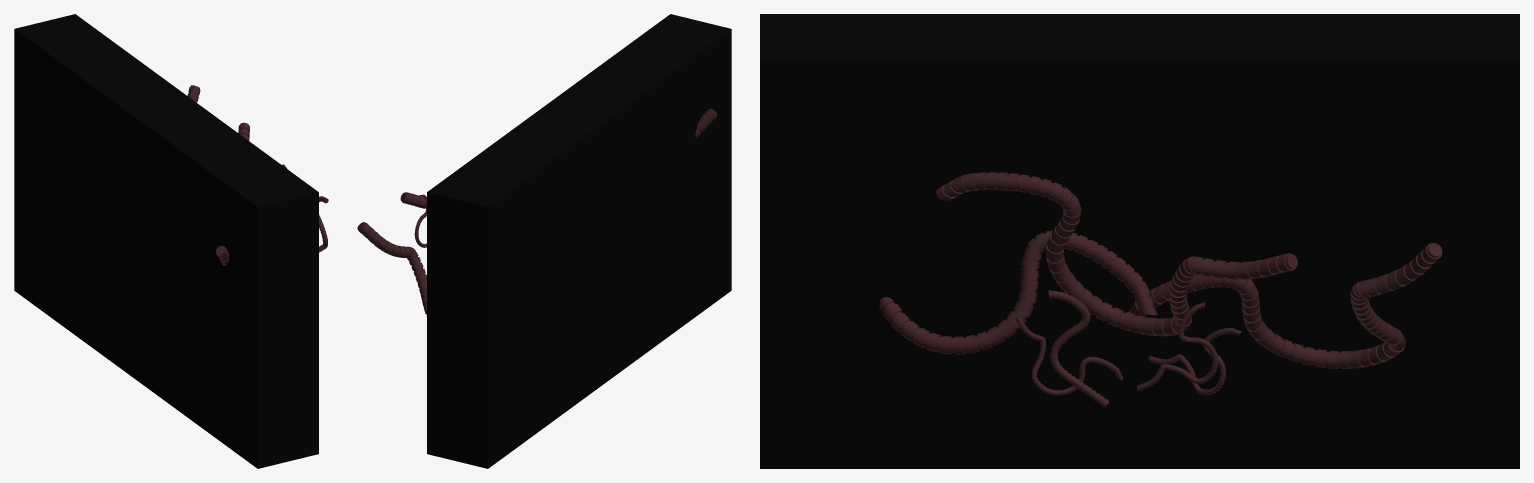
Rendered from Menu.glb.
3 views of the same model, side by side, from view 1: azimuth 30°, elevation 25°; view 2: azimuth 150°, elevation 25°; view 3: azimuth 270°, elevation 25° (orthographic). The views are drawn at different scales.
Parts seen in each view (by area): view 1: Cube; view 2: Cube, Cylinder.005; view 3: Cube, Cylinder.006, Cylinder.005, Cylinder.004, Cylinder, Cylinder.001, Cylinder.002, Cylinder.003.
Boxes of the visible parts, left/top/right/bottom form: Cube: left=14, top=14, right=318, bottom=468; Cube: left=427, top=14, right=731, bottom=468; Cylinder.005: left=357, top=222, right=426, bottom=316; Cube: left=760, top=14, right=1519, bottom=468; Cylinder.006: left=936, top=172, right=1297, bottom=336; Cylinder.005: left=1129, top=243, right=1442, bottom=368; Cylinder.004: left=879, top=230, right=1157, bottom=354; Cylinder: left=1048, top=290, right=1109, bottom=407; Cylinder.001: left=1137, top=302, right=1218, bottom=390; Cylinder.002: left=1015, top=316, right=1123, bottom=395; Cylinder.003: left=1148, top=327, right=1241, bottom=395.
Bounding box in the file's own units: 27.55 × 36.82 × 62.08.
